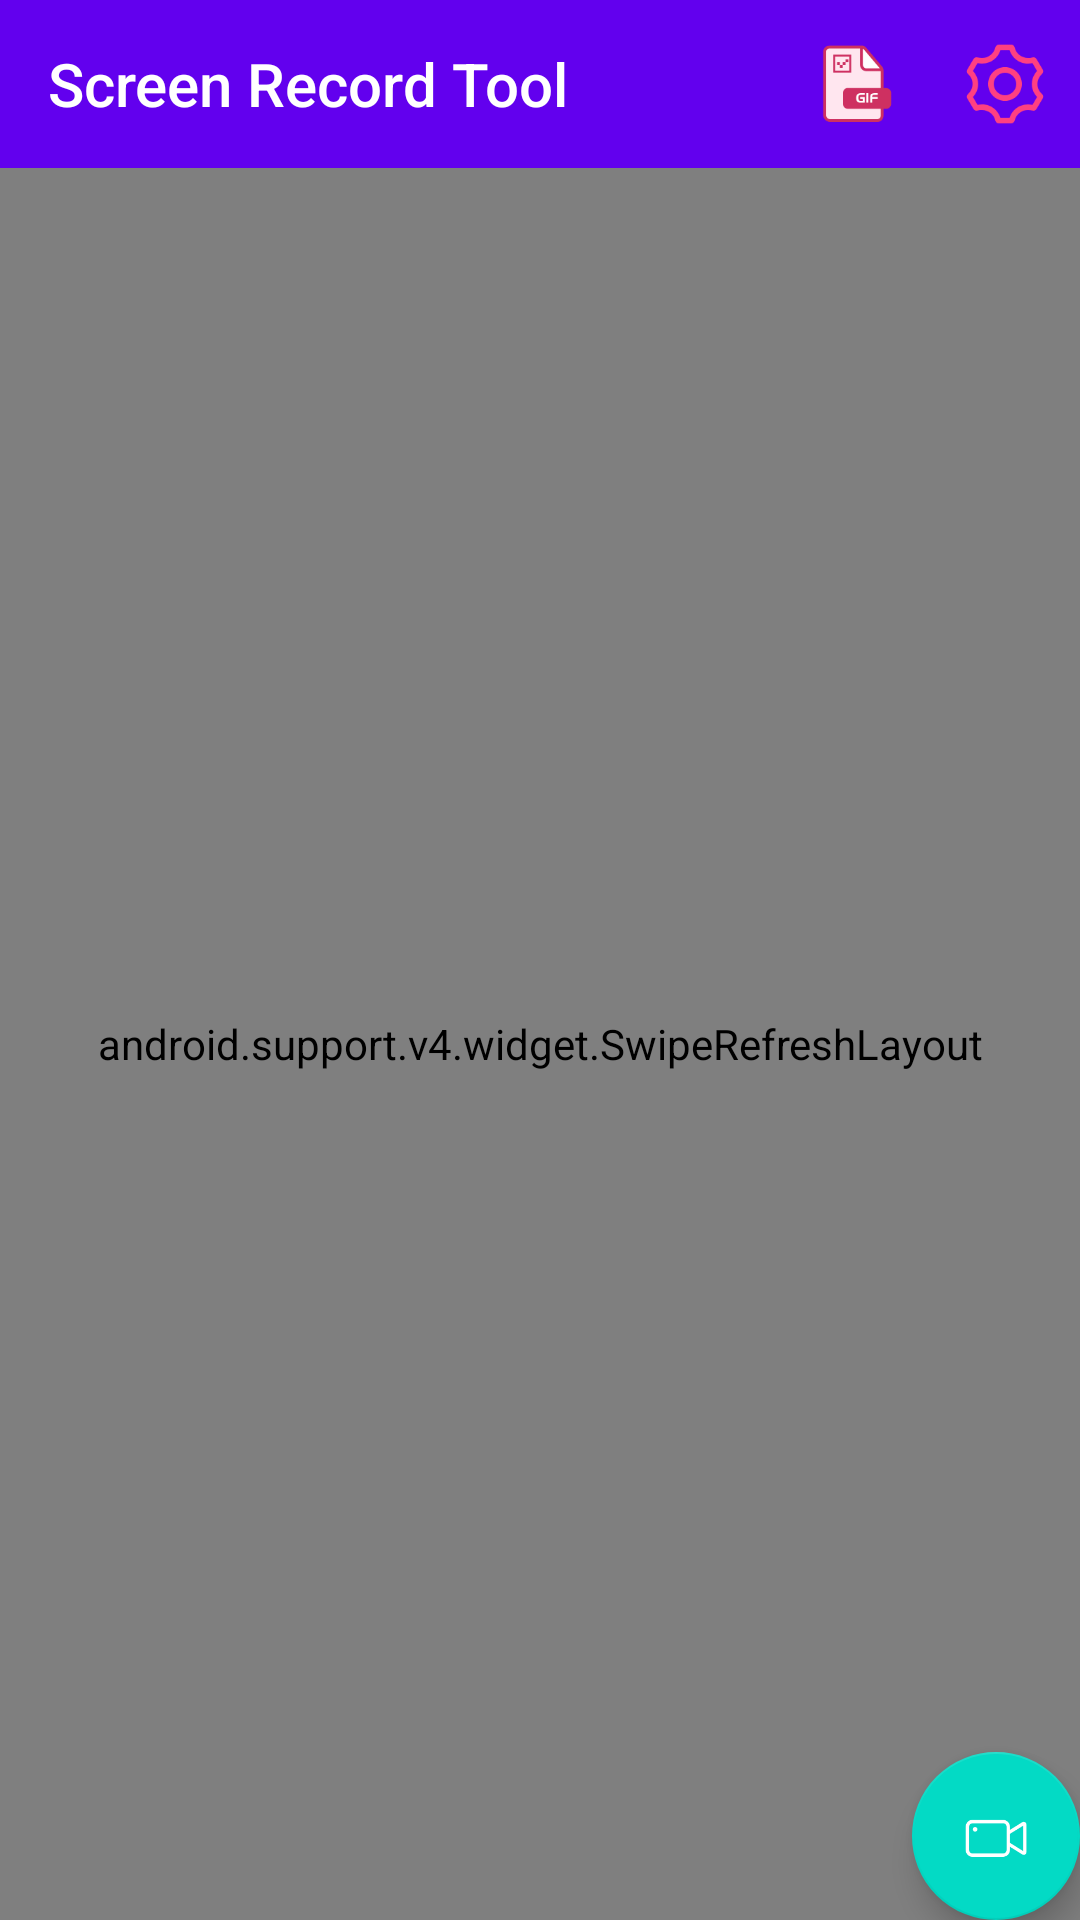

Icon bounding boxes for this 1080×1920 phone screenshot, format (x1, y1, x2, y2):
config: (966, 44, 1044, 124)
record: (912, 1752, 1080, 1920)
